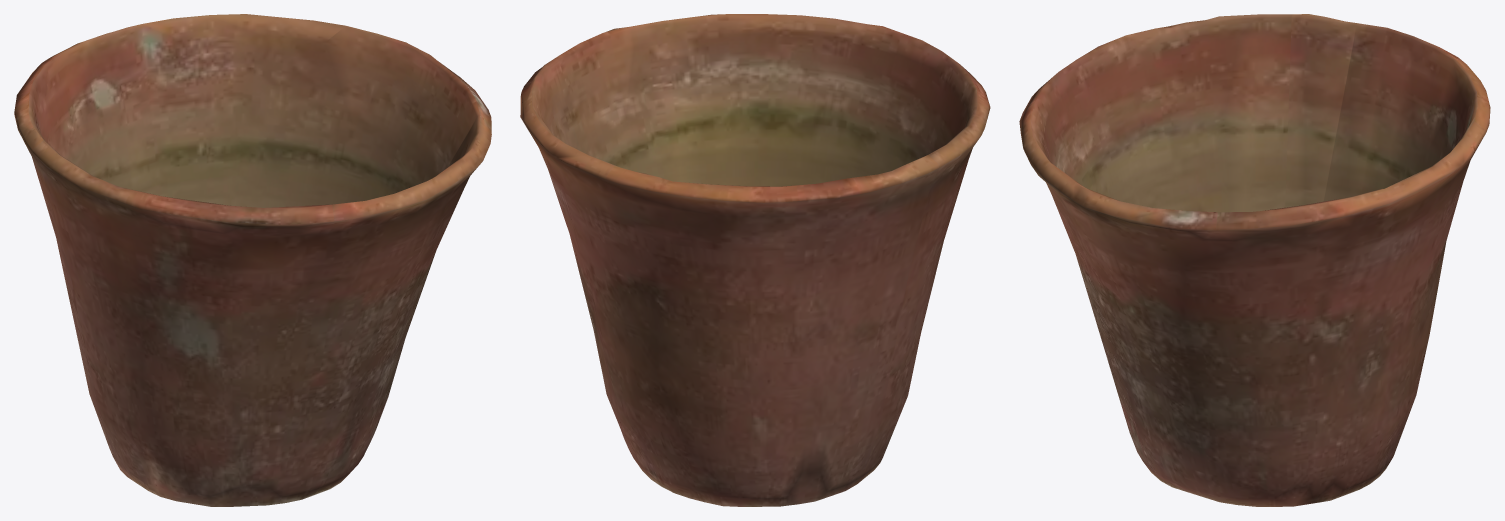
Rendered from clay_pot.glb.
The picture shows the model from 3 angles, left to right: view 1: azimuth 30°, elevation 25°; view 2: azimuth 150°, elevation 25°; view 3: azimuth 270°, elevation 25°; orthographic projection.
Visible parts, largest first — view 1: clay_pot; view 2: clay_pot; view 3: clay_pot.
Part boxes in pixels (x1,y1,x2,y2): clay_pot: [14, 14, 491, 506]; clay_pot: [520, 14, 990, 506]; clay_pot: [1019, 14, 1490, 506].
Bounding box in the file's own units: 0.266 × 0.2218 × 0.2635.
Materials: 1 (1 with a texture image).
